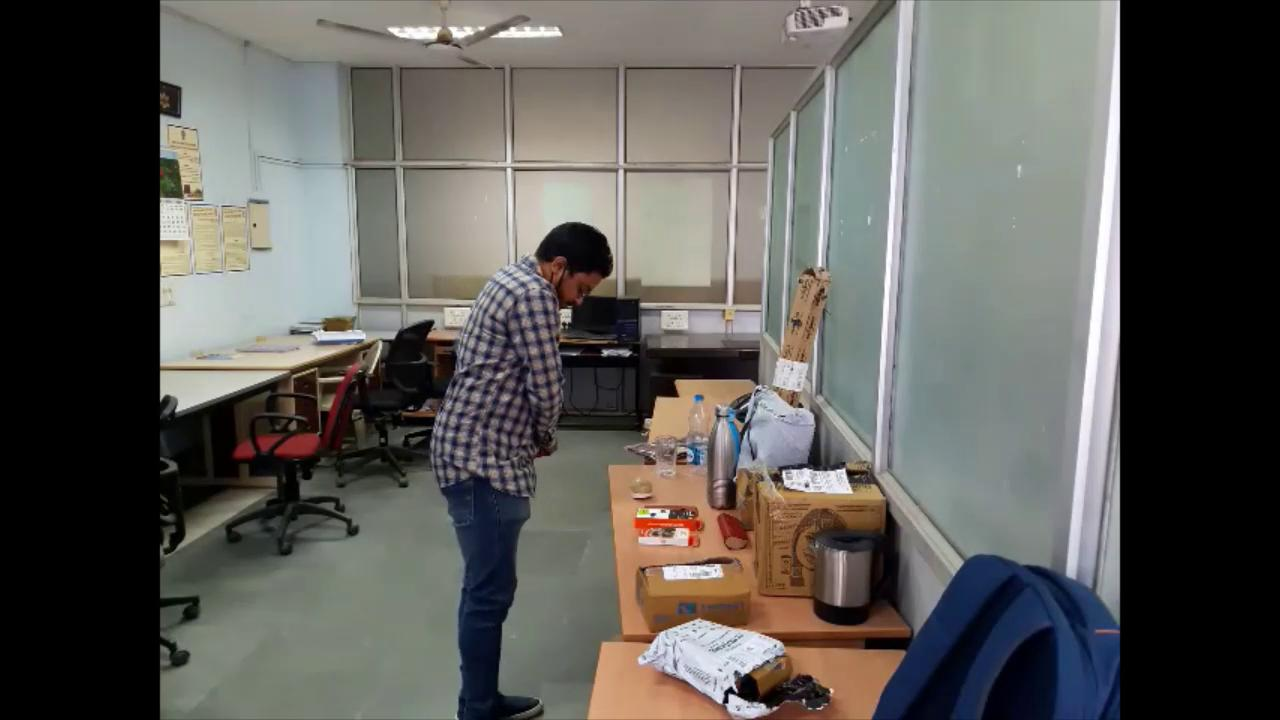shoplifting: (431, 213, 616, 720)
